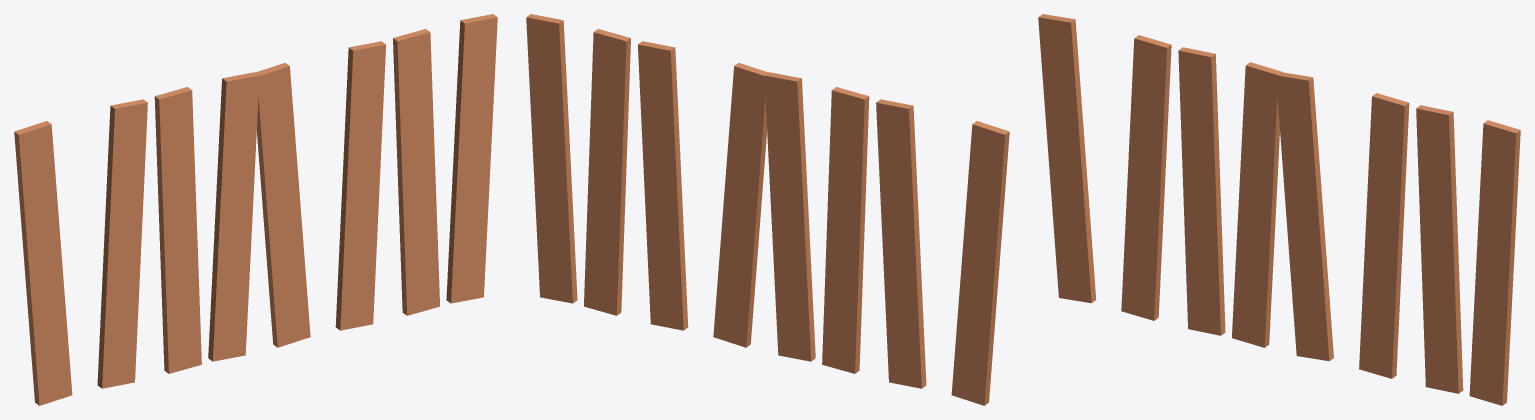
Rendered from Barrière.fbx.
3 renders of one model, left to right at view 1: azimuth 30°, elevation 25°; view 2: azimuth 150°, elevation 25°; view 3: azimuth 330°, elevation 25°, orthographic.
Parts seen in each view (by area): view 1: planks_wall_332, planks_wall_331; view 2: planks_wall_332, planks_wall_331; view 3: planks_wall_331, planks_wall_332.
Boxes of the visible parts, x1,y1,x2,y2 form: planks_wall_332: (14,72,259,405); planks_wall_331: (255,14,497,347); planks_wall_332: (764,72,1009,405); planks_wall_331: (526,14,768,347); planks_wall_331: (1276,72,1520,405); planks_wall_332: (1038,14,1282,347).
Size of the model in its own units: 18.1 by 10.07 by 0.3.
